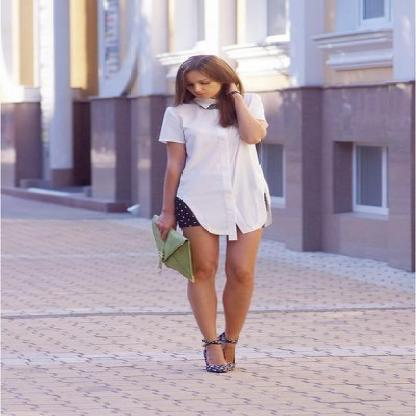bag: (172, 241, 198, 261)
dress: (158, 93, 270, 240)
shoe: (202, 351, 234, 372)
shorts: (172, 213, 200, 231)
